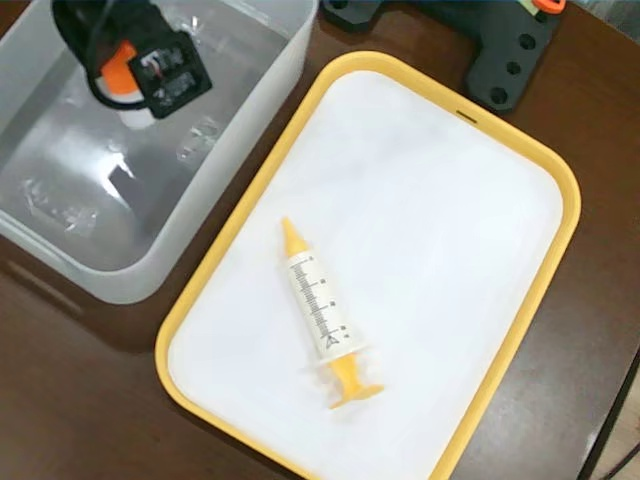pill: (109, 43, 144, 129)
syringe: (277, 213, 393, 414)
